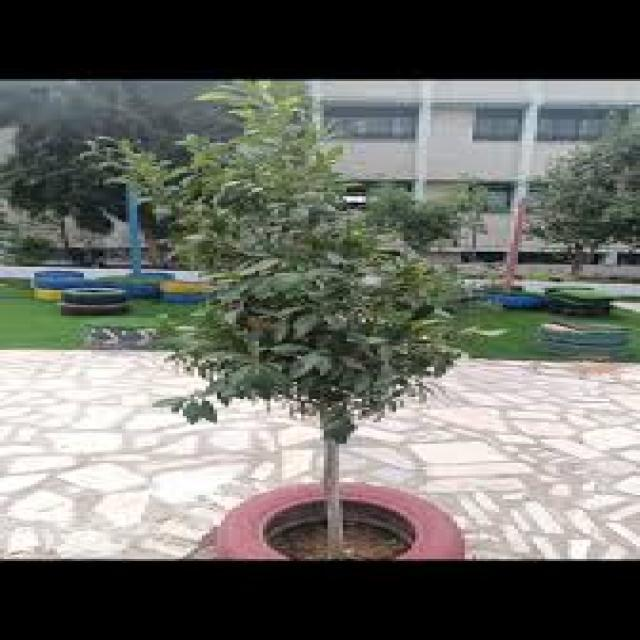Tree: (123, 87, 455, 550), (5, 87, 150, 262), (523, 112, 640, 277)
